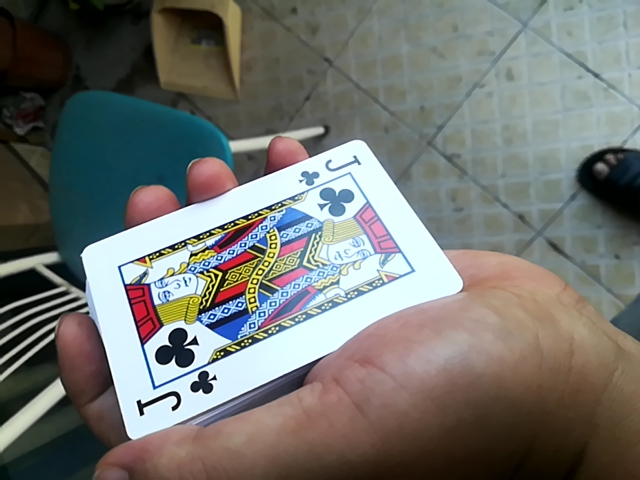mh j: (63, 131, 451, 447)
